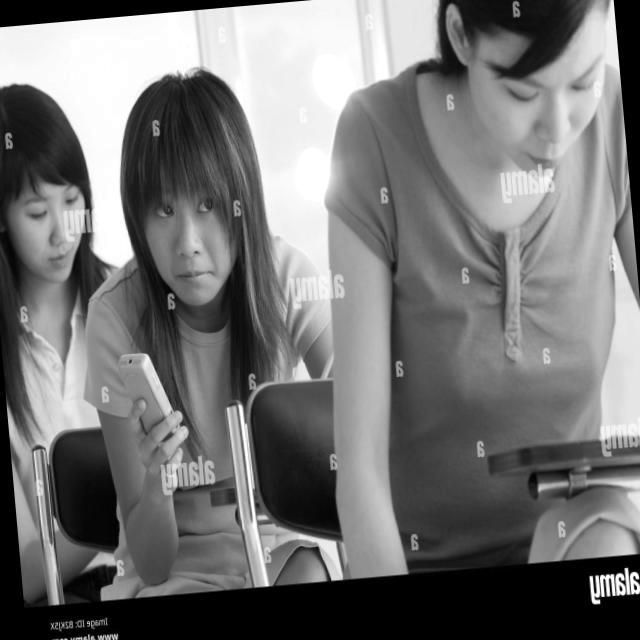phone: (116, 348, 182, 445)
